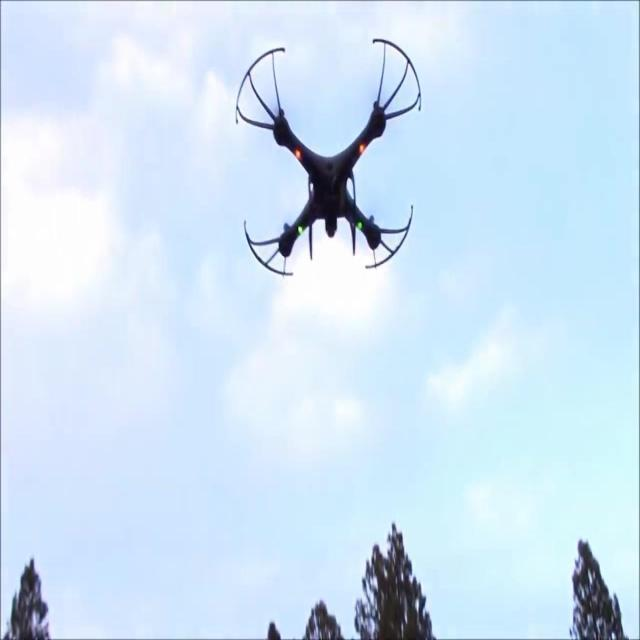drone: (236, 37, 422, 283)
